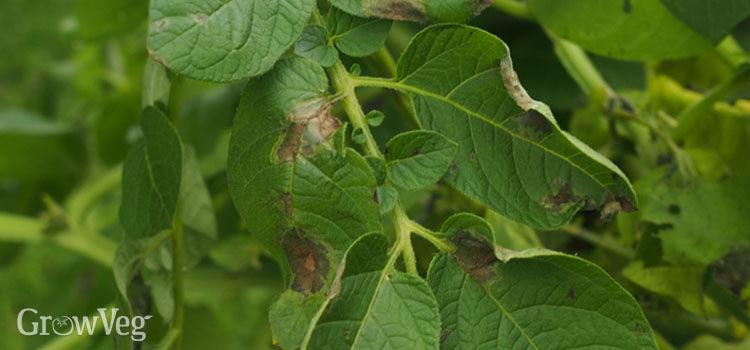Potato leaf late blight: (388, 24, 650, 239), (226, 64, 384, 347), (420, 215, 662, 350)
